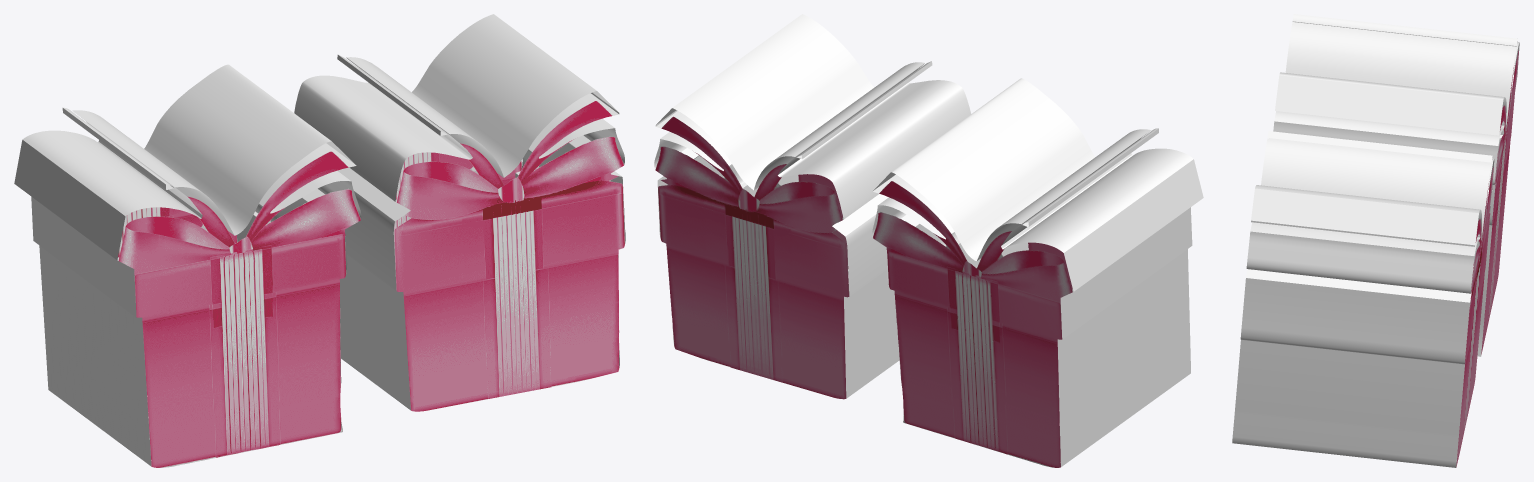
Rendered from Подарок.dae.
The picture shows the model from 3 angles, left to right: view 1: azimuth 30°, elevation 25°; view 2: azimuth 150°, elevation 25°; view 3: azimuth 270°, elevation 25°; orthographic projection. The views are drawn at different scales.
Visible parts, largest first — view 1: Слой_2; view 2: Слой_2; view 3: Слой_2.
Boxes of the visible parts, x1=… form: Слой_2: x1=14, y1=14, x2=625, y2=467; Слой_2: x1=654, y1=14, x2=1203, y2=467; Слой_2: x1=1232, y1=14, x2=1519, y2=467.
Size of the model in its own units: 932 by 533 by 506.
3 materials, 3 textured.
